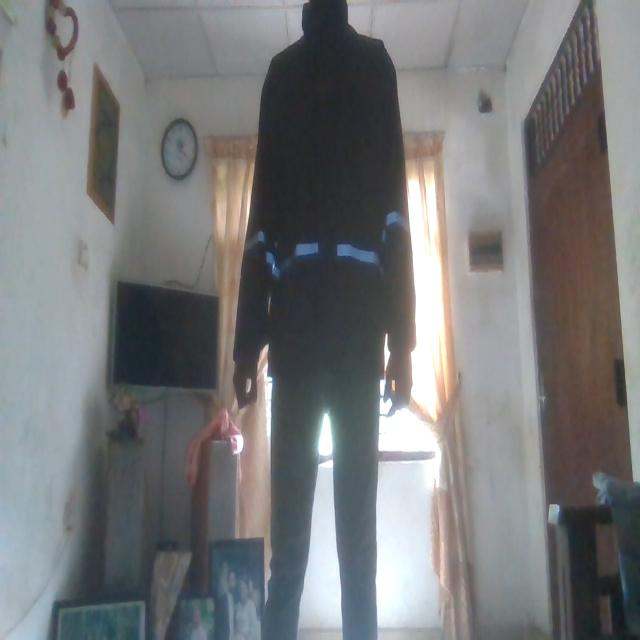Jacket_Wearer: (234, 13, 417, 400)
Person: (236, 13, 418, 640)
